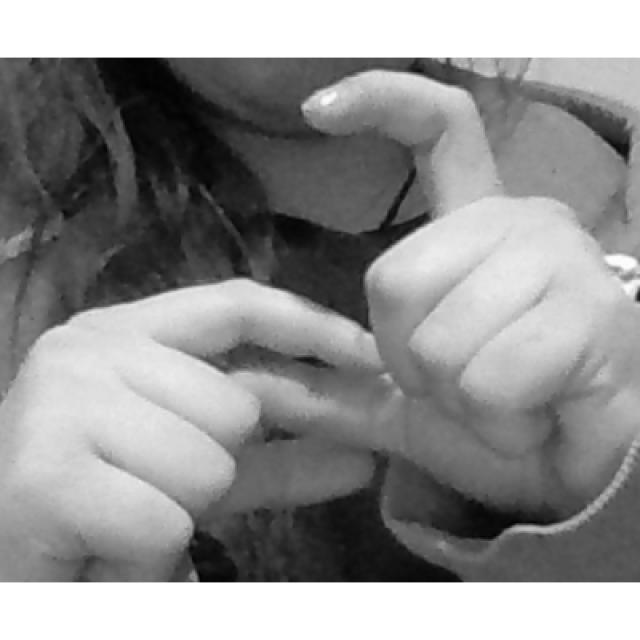G-: (0, 64, 637, 581)
